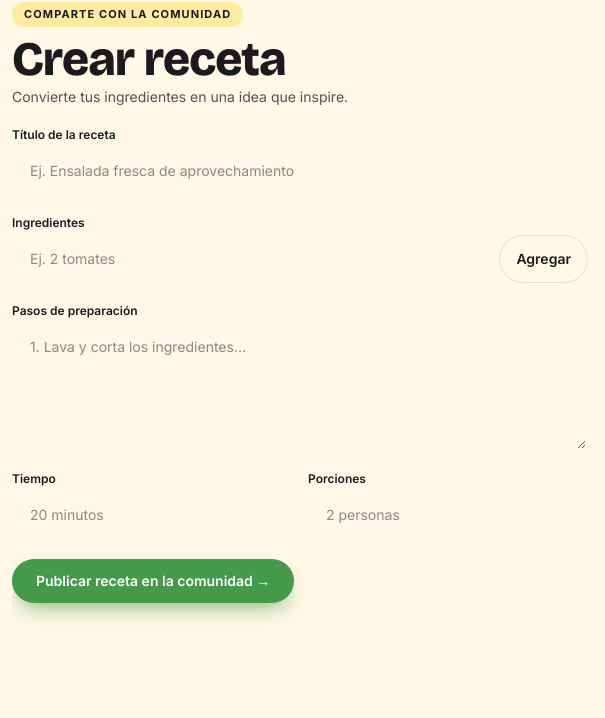
Scenario: submitting the empty recipe form shows validation errors
Click the button "Publicar receta en la comunidad →".
click(153, 580)  # box [12, 558, 294, 602]
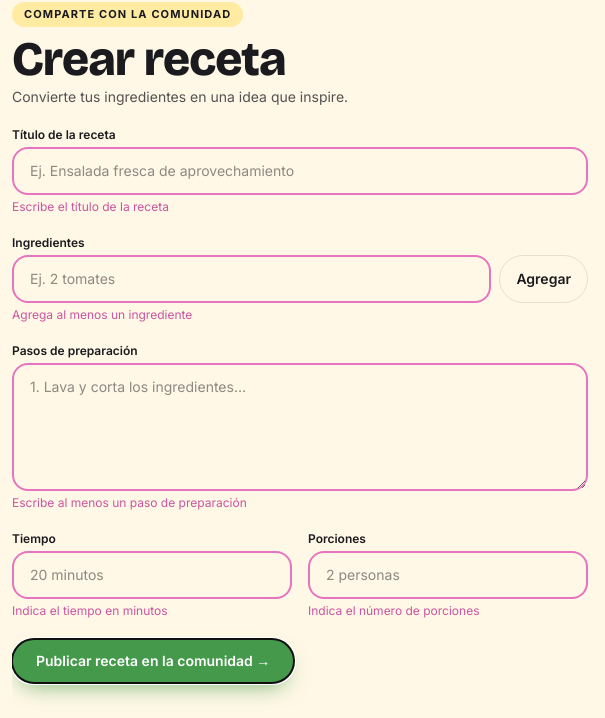
Expected: the message "Escribe el título de la receta" is shown, [12, 198, 169, 214]
